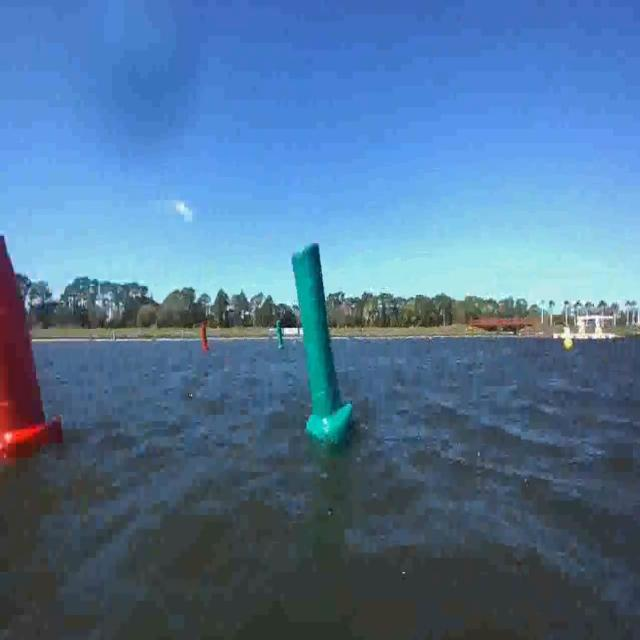green-column-buoy: (291, 242, 354, 446), (276, 320, 286, 351)
red-column-buoy: (0, 224, 51, 459), (201, 322, 211, 351)
yellow-buoy: (564, 337, 573, 354)
